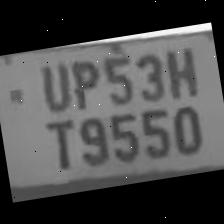0: (164, 95, 208, 158)
3: (128, 41, 168, 103)
5: (94, 44, 139, 108), (102, 104, 142, 164), (132, 99, 172, 159)
9: (71, 108, 111, 168)
H: (158, 40, 202, 100)
P: (64, 51, 102, 111)
T: (37, 112, 79, 174)
U: (31, 55, 73, 114)
